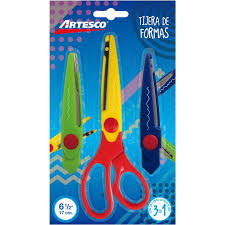tihiras: (78, 29, 151, 221)
